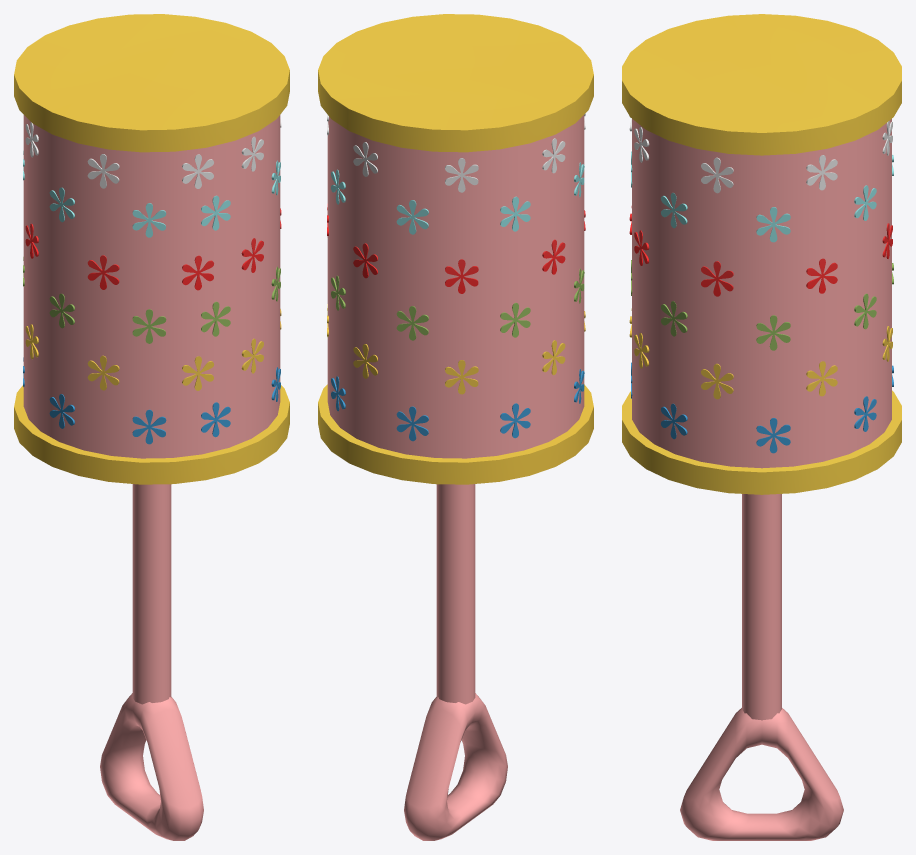
File: Toy_M_1.fbx
3 renders of one model, left to right at view 1: azimuth 30°, elevation 25°; view 2: azimuth 150°, elevation 25°; view 3: azimuth 270°, elevation 25°, orthographic. The views are drawn at different scales.
Parts seen in each view (by area): view 1: Toy_M_1; view 2: Toy_M_1; view 3: Toy_M_1.
Part boxes in pixels (<box>): Toy_M_1: <box>14,14,289,840</box>; Toy_M_1: <box>318,14,593,840</box>; Toy_M_1: <box>622,14,901,840</box>.
Size of the model in its own units: 21.36 by 63.91 by 21.21.
1 material, 1 textured.
